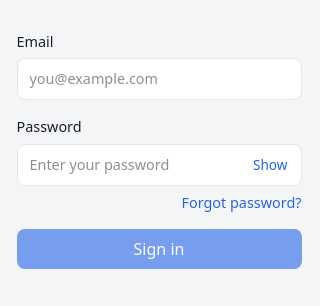
SignInForm › shows the error and clears the password on failure
The image size is (320, 306).
Step 1. Type "anna@example.com" into the field labelled "Email" → [159, 79], box [16,58,302,100]
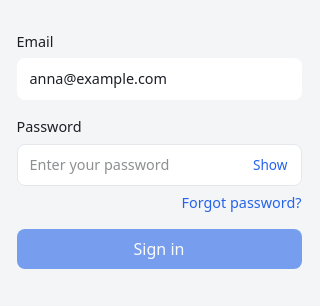
Step 2. Type "wrong-pass" into the password field labelled "Password" → [159, 165], box [16,144,302,186]
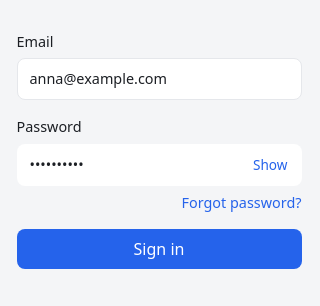
Step 3. Click the button "Sign in" → [159, 249], box [16,229,302,269]
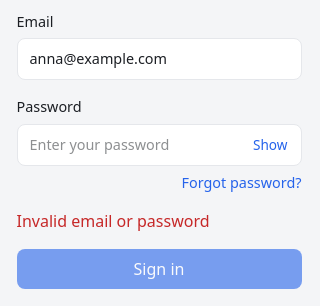
Expected: the message reads "Invalid email or password", [16,210,210,232]
Expected: the password field labelled "Password" is empty, [16,124,302,166]
